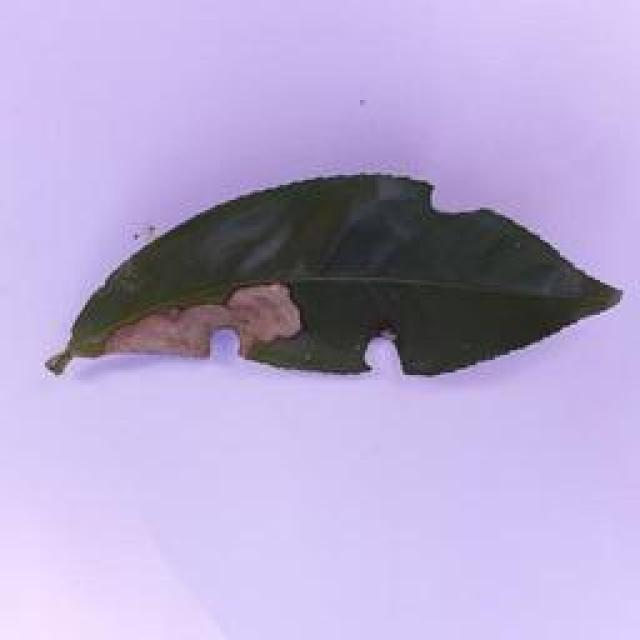Gray Blight: (41, 168, 633, 391)
